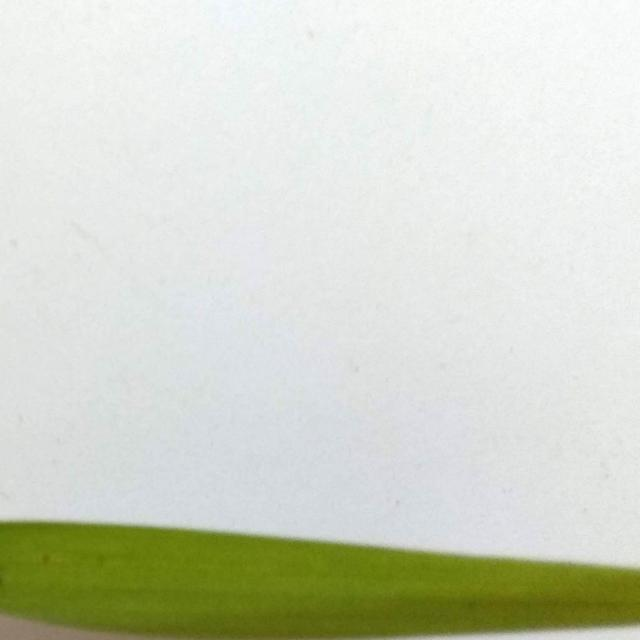Rice_Healthy: (0, 522, 640, 640)
